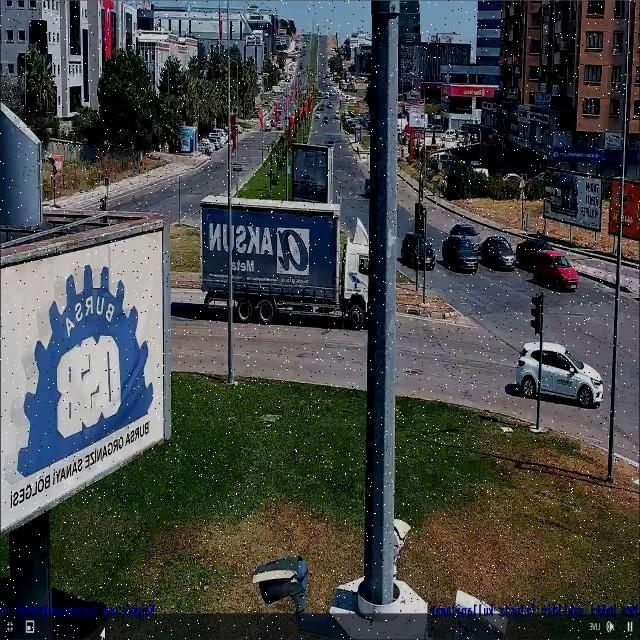Car: (517, 342, 605, 407), (536, 247, 578, 290), (442, 234, 480, 272), (480, 236, 517, 270), (401, 233, 435, 270), (515, 238, 554, 267), (450, 224, 480, 238), (198, 138, 214, 154), (438, 153, 454, 166), (503, 173, 523, 183), (344, 117, 357, 132), (444, 129, 457, 140), (364, 177, 370, 198), (210, 139, 220, 151), (264, 120, 272, 131), (326, 138, 335, 145), (276, 122, 283, 130), (236, 125, 242, 134), (323, 116, 329, 124), (334, 113, 340, 120), (326, 103, 333, 109), (316, 112, 321, 120)
